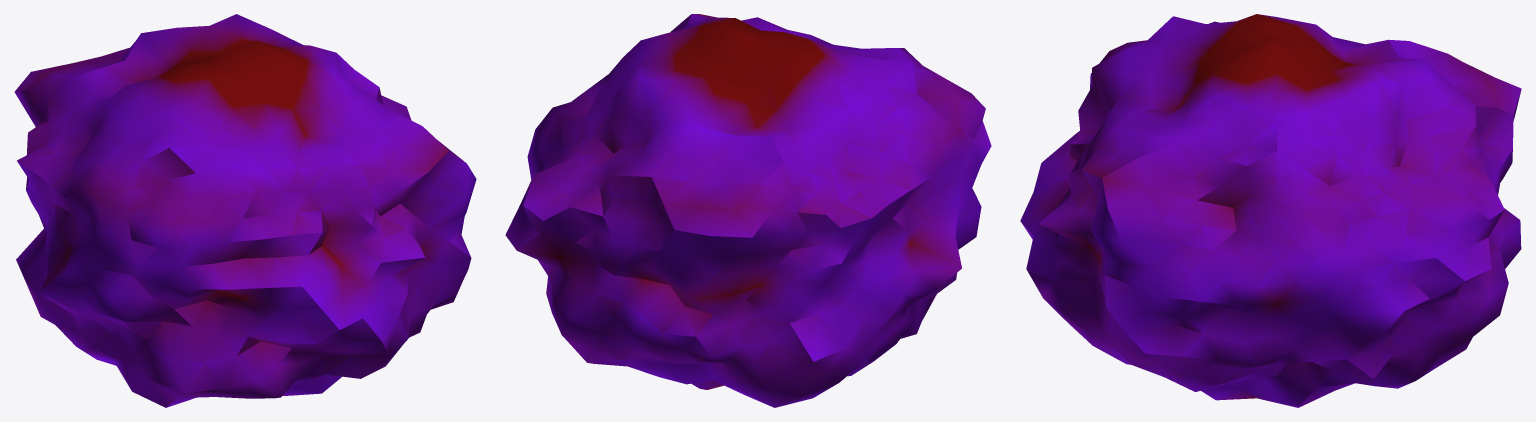
File: asteroid_0.fbx
3 renders of one model, left to right at view 1: azimuth 30°, elevation 25°; view 2: azimuth 150°, elevation 25°; view 3: azimuth 270°, elevation 25°, orthographic. The views are drawn at different scales.
Parts seen in each view (by area): view 1: asteroid_0; view 2: asteroid_0; view 3: asteroid_0.
Part boxes in pixels (left/top/right/bottom): asteroid_0: left=14, top=14, right=476, bottom=407; asteroid_0: left=505, top=14, right=991, bottom=407; asteroid_0: left=1020, top=14, right=1521, bottom=407.
Bounding box in the file's own units: 2.68 × 2.11 × 2.77.
